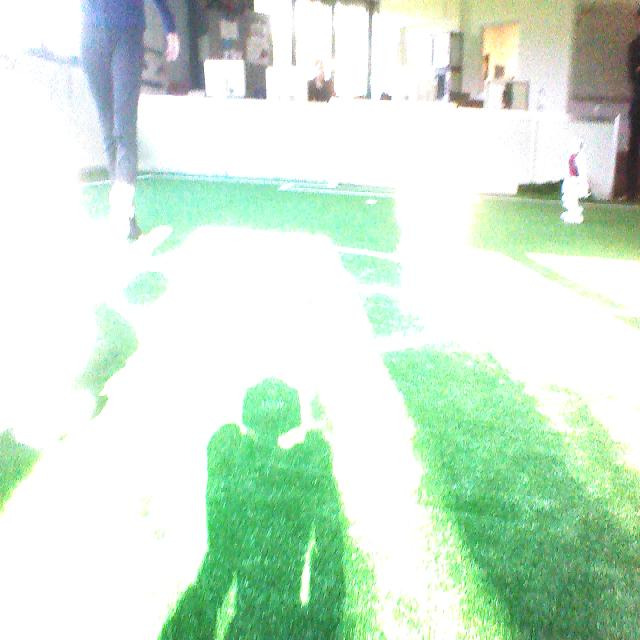goalpost: (326, 99, 341, 189)
